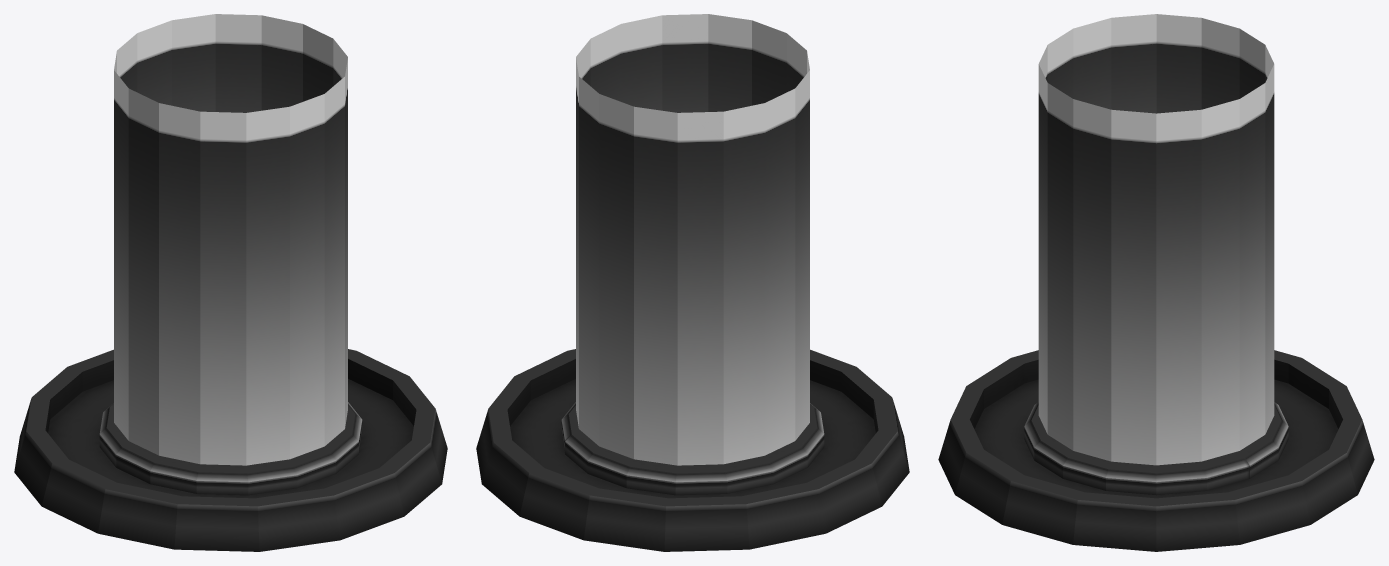
Rendered from teleporter.obj.
3 views of the same model, side by side, from view 1: azimuth 30°, elevation 25°; view 2: azimuth 150°, elevation 25°; view 3: azimuth 270°, elevation 25° (orthographic).
Visible parts, largest first — view 1: Cylinder_Cylinder.003; view 2: Cylinder_Cylinder.003; view 3: Cylinder_Cylinder.003.
Boxes of the visible parts, x1=… form: Cylinder_Cylinder.003: x1=14, y1=14, x2=447, y2=551; Cylinder_Cylinder.003: x1=476, y1=14, x2=909, y2=551; Cylinder_Cylinder.003: x1=938, y1=14, x2=1374, y2=551.
Size of the model in its own units: 2 by 2 by 2.
